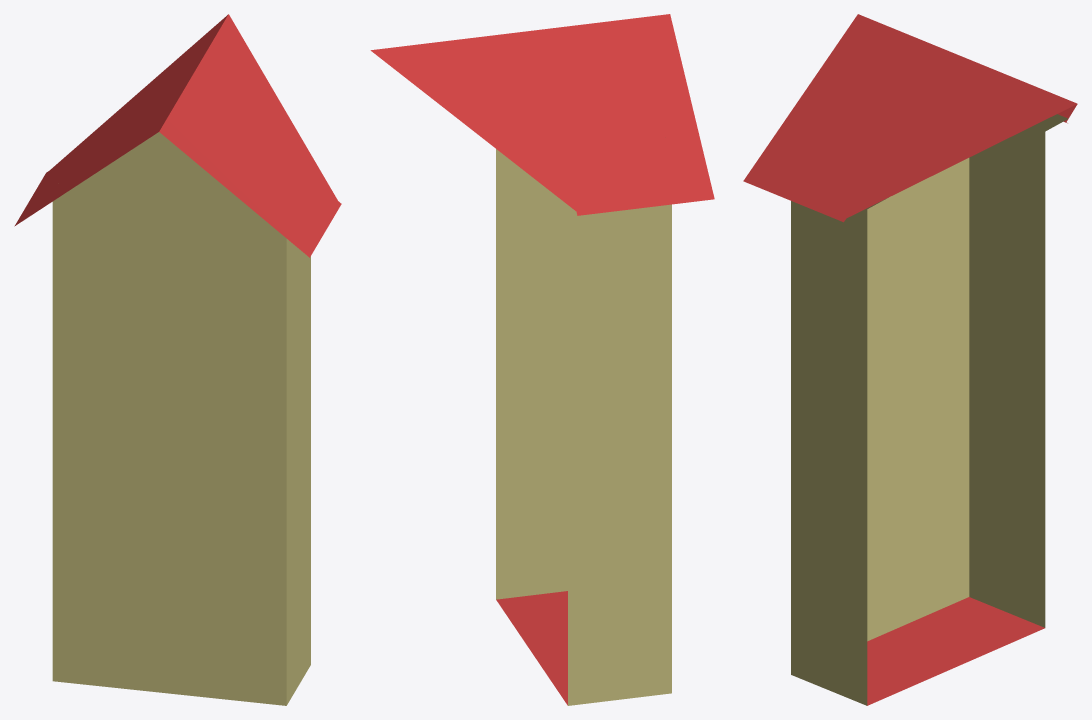
3 renders of one model, left to right at view 1: azimuth 30°, elevation 25°; view 2: azimuth 150°, elevation 25°; view 3: azimuth 270°, elevation 25°, orthographic. The views are drawn at different scales.
Bounding box in the file's own units: 4.88 × 4.95 × 9.97.
